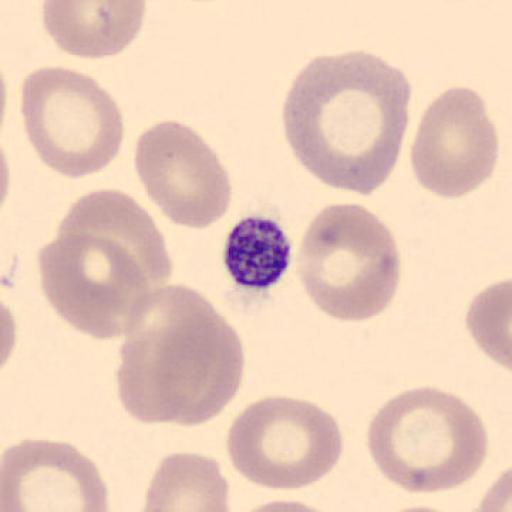Platelet: (219, 212, 296, 293)
RBC: (281, 48, 412, 195), (116, 281, 245, 427), (366, 384, 490, 496), (292, 200, 402, 323), (115, 315, 232, 427), (36, 230, 150, 343), (19, 65, 126, 179), (57, 187, 172, 290), (225, 394, 345, 492), (133, 118, 233, 230), (410, 86, 499, 200), (154, 318, 246, 428), (116, 324, 203, 424), (2, 436, 110, 512), (41, 0, 147, 62), (138, 451, 232, 512), (465, 276, 512, 373), (475, 465, 512, 512), (229, 498, 344, 512), (0, 297, 18, 372), (0, 131, 11, 216), (379, 503, 468, 512)
